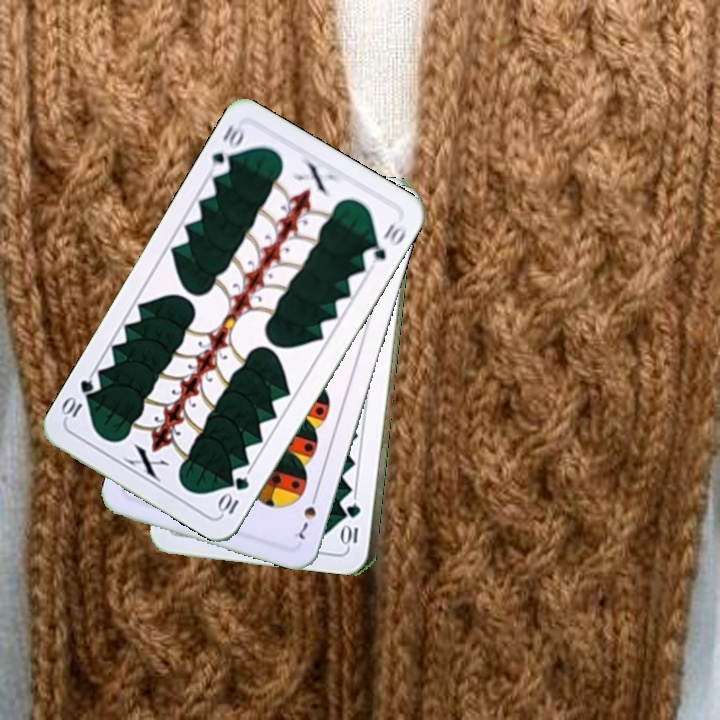G10: (205, 120, 247, 179), (214, 473, 252, 517), (342, 499, 363, 549)
S7: (290, 487, 321, 542)
